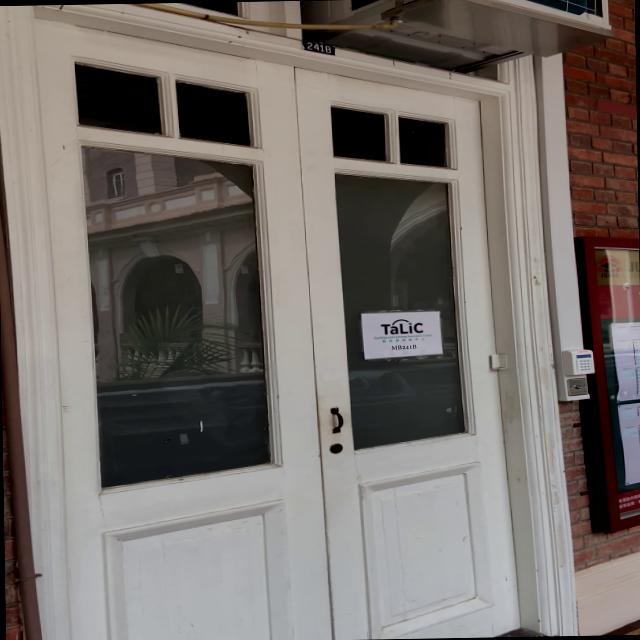room241b: (298, 36, 338, 58)
